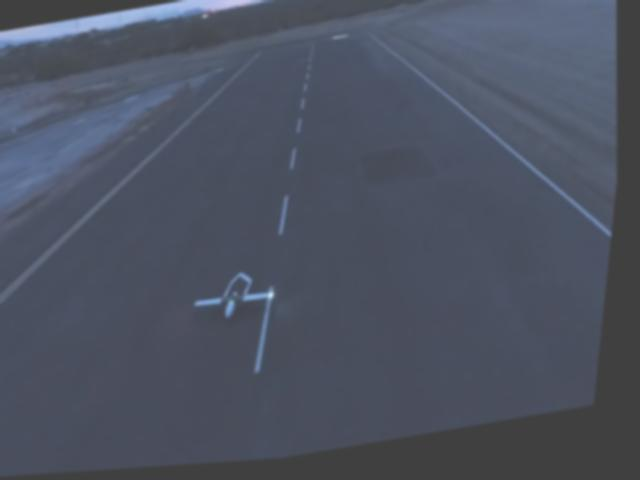plane: (197, 267, 284, 329)
